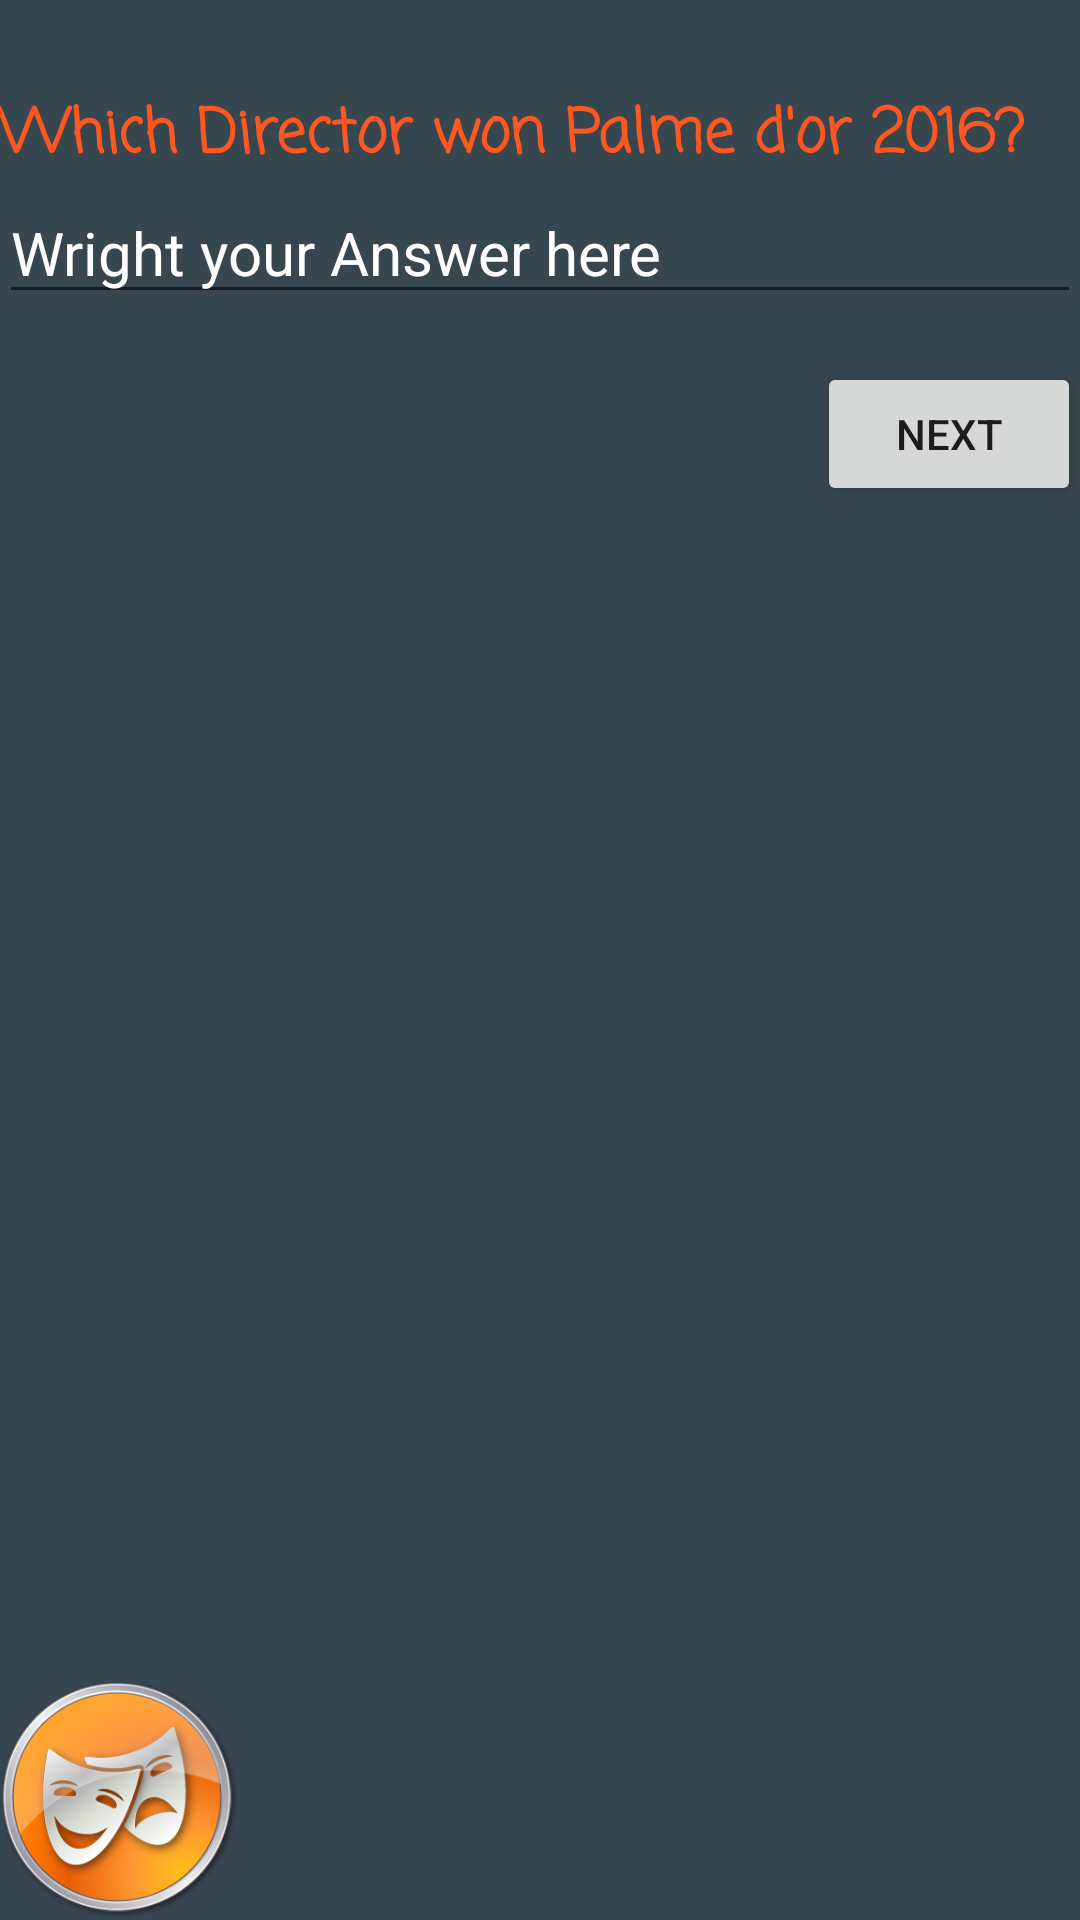

Icon bounding boxes for this 1080 x 1920 phone screenshot, format (x1, y1, x2, y2):
theater: (3, 1683, 232, 1913)
